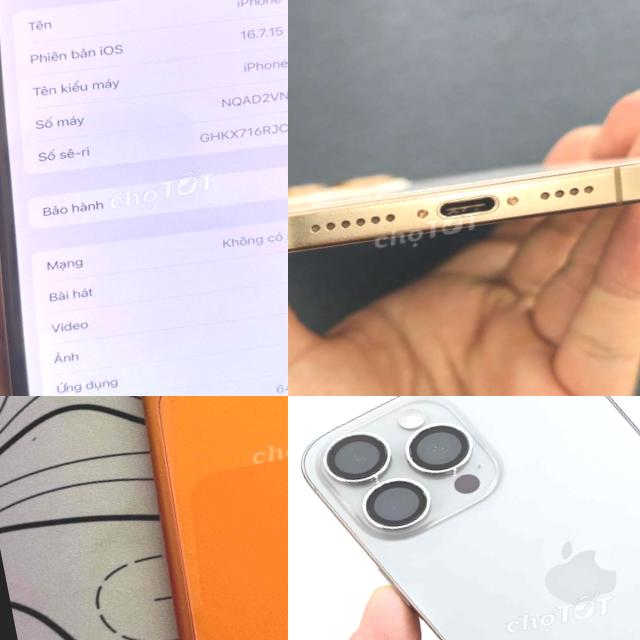gen_16: (302, 396, 640, 640), (288, 157, 640, 251)
gen_17: (98, 396, 288, 640)
gen_x_xs: (0, 0, 288, 396)
